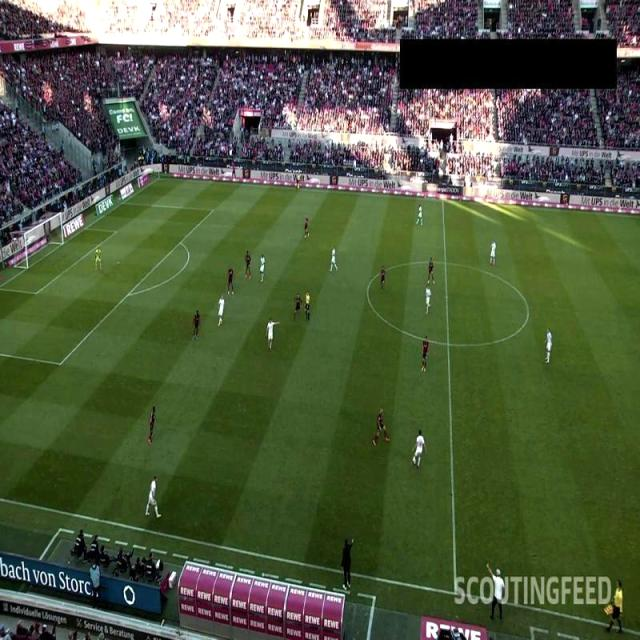bigarea_bottom_inner: (56, 358, 66, 369)
bigarea_top_inner: (208, 204, 218, 216)
bigarea_top_outter: (118, 196, 129, 207)
bottom_arc_area_intersection: (124, 288, 134, 298)
corner: (154, 172, 166, 184)
halfcircle_bottom: (442, 338, 453, 348)
halfcircle_top: (440, 256, 450, 268)
midline_bottom_intersection: (444, 583, 467, 603)
midline_top_intersection: (438, 195, 448, 206)
smallarea_bottom_inner: (31, 286, 42, 297)
smallarea_top_inner: (111, 225, 122, 236)
smallarea_top_outter: (80, 222, 90, 233)
top_arc_area_intersection: (176, 236, 187, 248)
